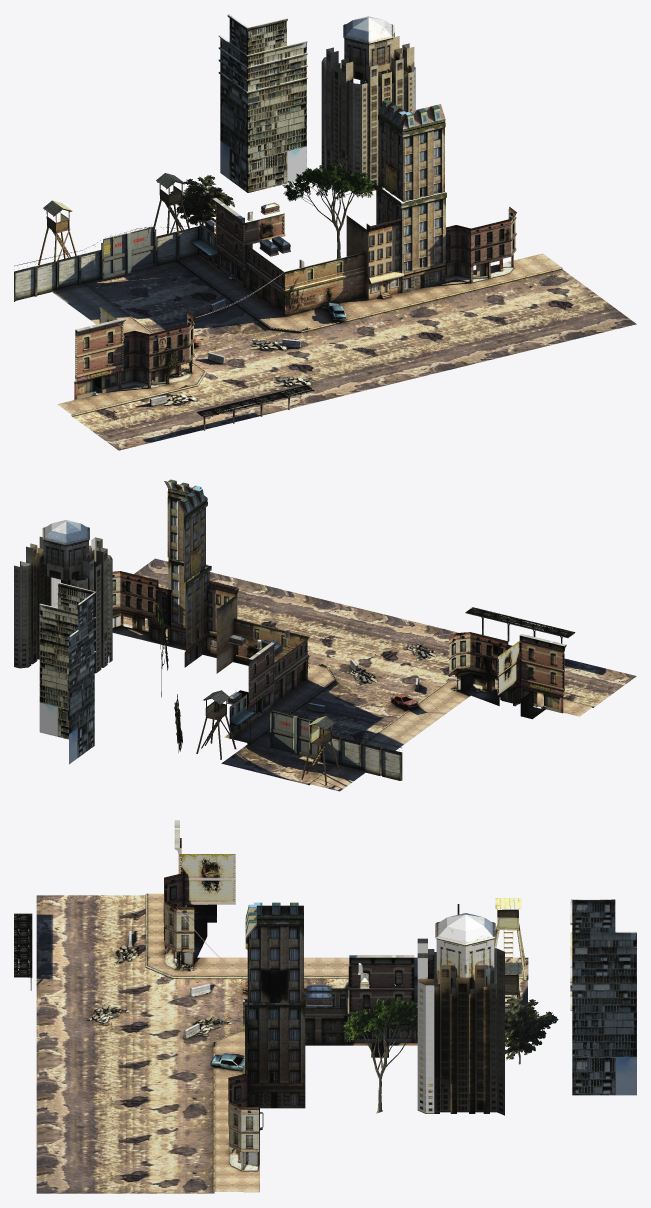
File: city_ruin.glb
3 renders of one model, top to bottom at view 1: azimuth 30°, elevation 25°; view 2: azimuth 150°, elevation 25°; view 3: azimuth 270°, elevation 25°, orthographic. The views are drawn at different scales.
Parts seen in each view (by area): view 1: road, back_builds, facade005, facade2, outpost, Plane007, facade1, facade3, road_staff, foreground, facade6; view 2: road, back_builds, facade005, outpost, facade2, facade1, facade3, foreground, road_staff, facade6, Plane007, city_ruin; view 3: road, back_builds, facade005, Plane007, facade3, facade1, facade2, outpost, road_staff, foreground, cars.
Boxes of the visible parts, x1,y1,x2,y2 form: road: [23, 253, 636, 450]; back_builds: [218, 14, 415, 192]; facade005: [74, 98, 516, 399]; facade2: [245, 215, 404, 316]; outpost: [14, 173, 199, 301]; Plane007: [169, 163, 374, 258]; facade1: [120, 312, 194, 388]; facade3: [212, 198, 285, 287]; road_staff: [149, 299, 313, 406]; foreground: [196, 385, 314, 430]; facade6: [191, 219, 218, 268]; road: [112, 558, 636, 791]; back_builds: [14, 520, 112, 764]; facade005: [112, 479, 566, 719]; outpost: [196, 690, 402, 785]; facade2: [206, 581, 309, 705]; facade1: [448, 632, 521, 706]; facade3: [228, 635, 277, 724]; foreground: [465, 607, 575, 643]; road_staff: [308, 643, 436, 712]; facade6: [227, 691, 254, 734]; Plane007: [157, 600, 182, 752]; city_ruin: [460, 672, 499, 705]; road: [36, 893, 528, 1193]; back_builds: [417, 899, 636, 1115]; facade005: [174, 820, 305, 1171]; Plane007: [343, 997, 558, 1113]; facade3: [347, 955, 414, 1057]; facade1: [163, 867, 198, 970]; facade2: [242, 985, 349, 1073]; outpost: [457, 898, 525, 1012]; road_staff: [86, 931, 232, 1039]; foreground: [14, 913, 32, 990]; cars: [210, 982, 247, 1071].
Bounding box in the file's own units: 2163 × 797 × 1907.
23 materials, 22 textured.
